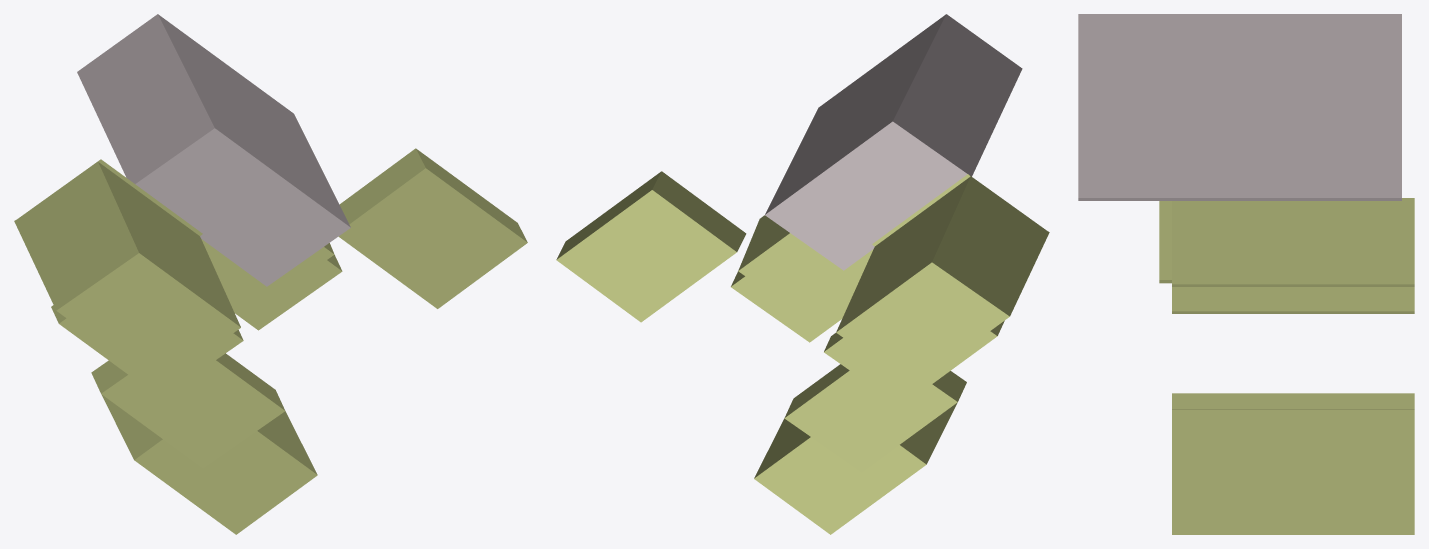
3 views of the same model, side by side, from view 1: azimuth 30°, elevation 25°; view 2: azimuth 150°, elevation 25°; view 3: azimuth 270°, elevation 25° (orthographic). The views are drawn at different scales.
Visible parts, largest first — view 1: 0_2_2_0_0_0_0_2_2_2; view 2: 0_2_2_0_0_0_0_2_2_2; view 3: 0_2_2_0_0_0_0_2_2_2.
Part boxes in pixels (x1=…): 0_2_2_0_0_0_0_2_2_2: x1=14, y1=14, x2=527, y2=534; 0_2_2_0_0_0_0_2_2_2: x1=556, y1=14, x2=1049, y2=534; 0_2_2_0_0_0_0_2_2_2: x1=1078, y1=14, x2=1414, y2=534.
Size of the model in its own units: 21.24 by 21.69 by 12.47.
